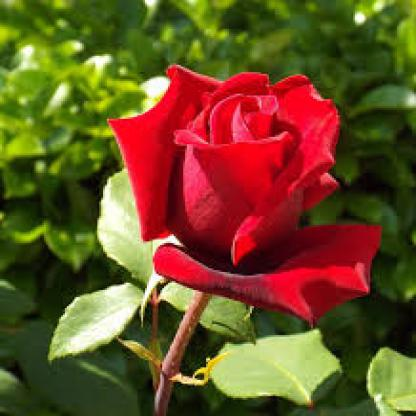Rose-Mawar: (108, 50, 388, 316)
